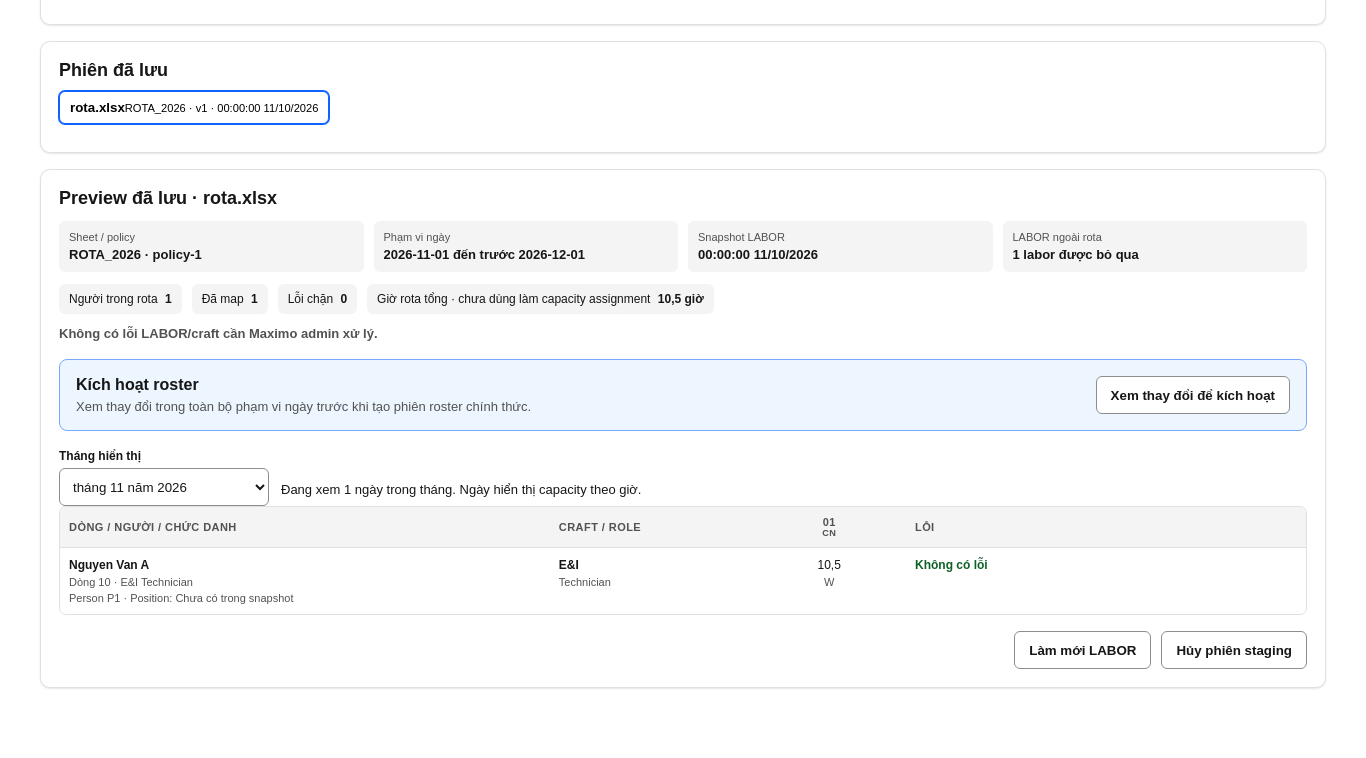
Test: ignores a late refresh result after switching A to B and back to A
(page scrolled)
Click the button "Làm mới LABOR".
click(1083, 650)  # box [1014,631,1152,669]
(page scrolled)
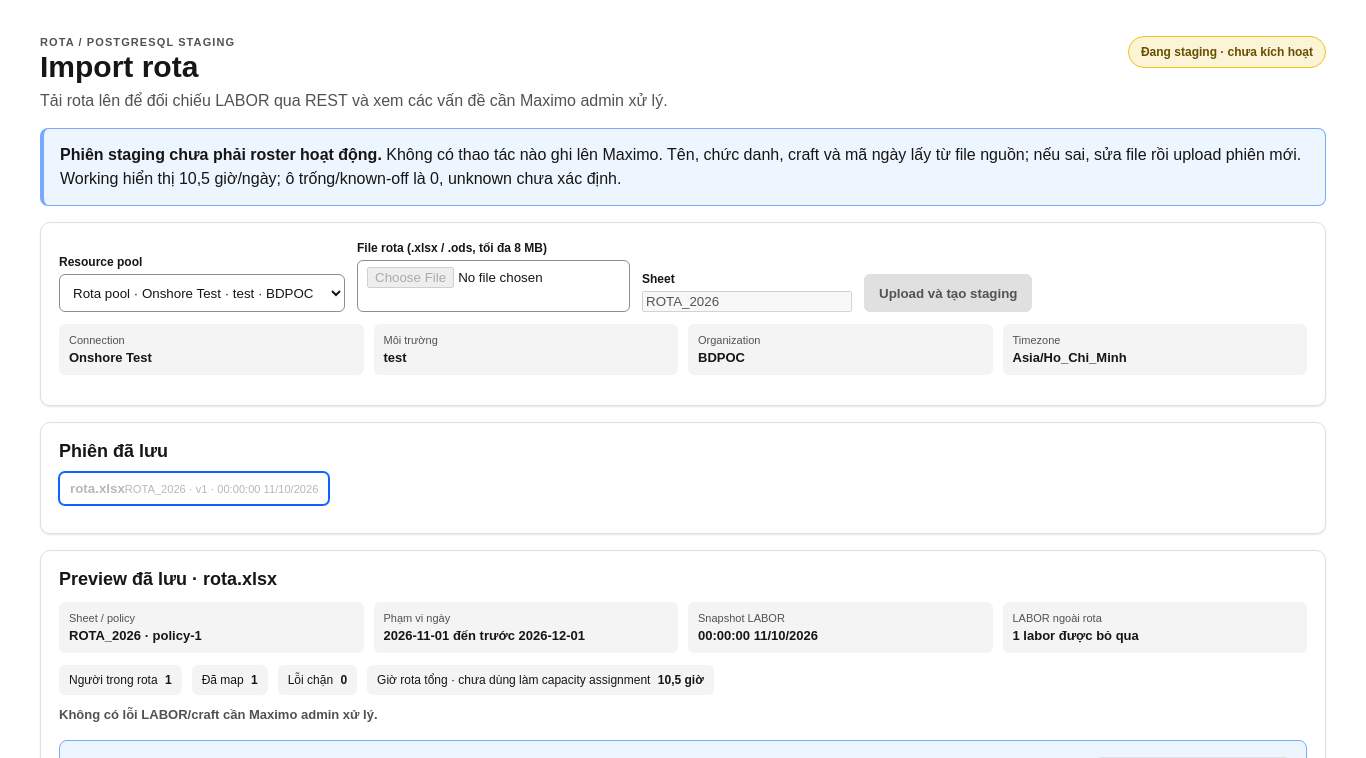
Select "Other pool · Onshore Test · test · BDPOC" in the dropdown labelled "Resource pool" at (202, 293), box [59,274,345,312]
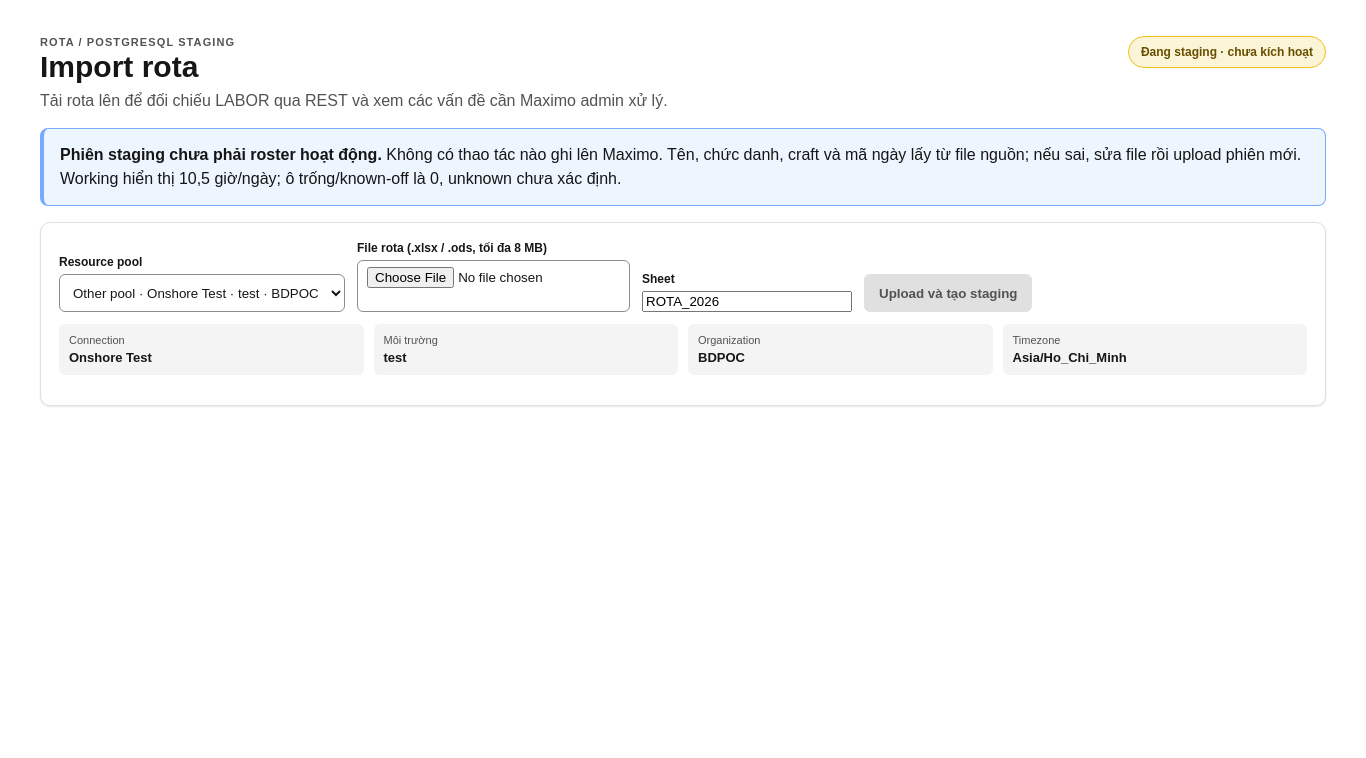
Select "Rota pool · Onshore Test · test · BDPOC" in the dropdown labelled "Resource pool" at (202, 293), box [59,274,345,312]
(page scrolled)
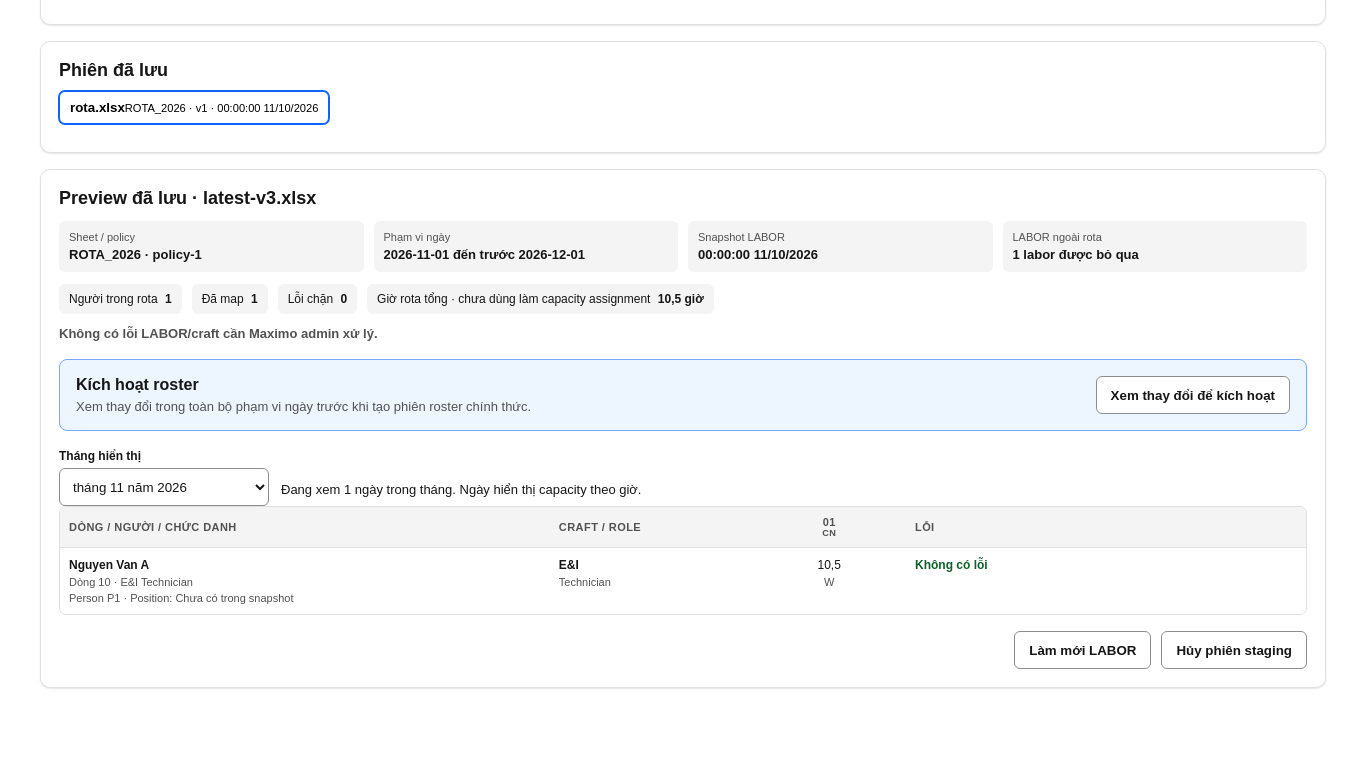
Check: the heading "Preview đã lưu · latest-v3.xlsx" is shown, box [59,188,316,208]
Click the button "Làm mới LABOR".
click(1083, 650)  # box [1014,631,1152,669]
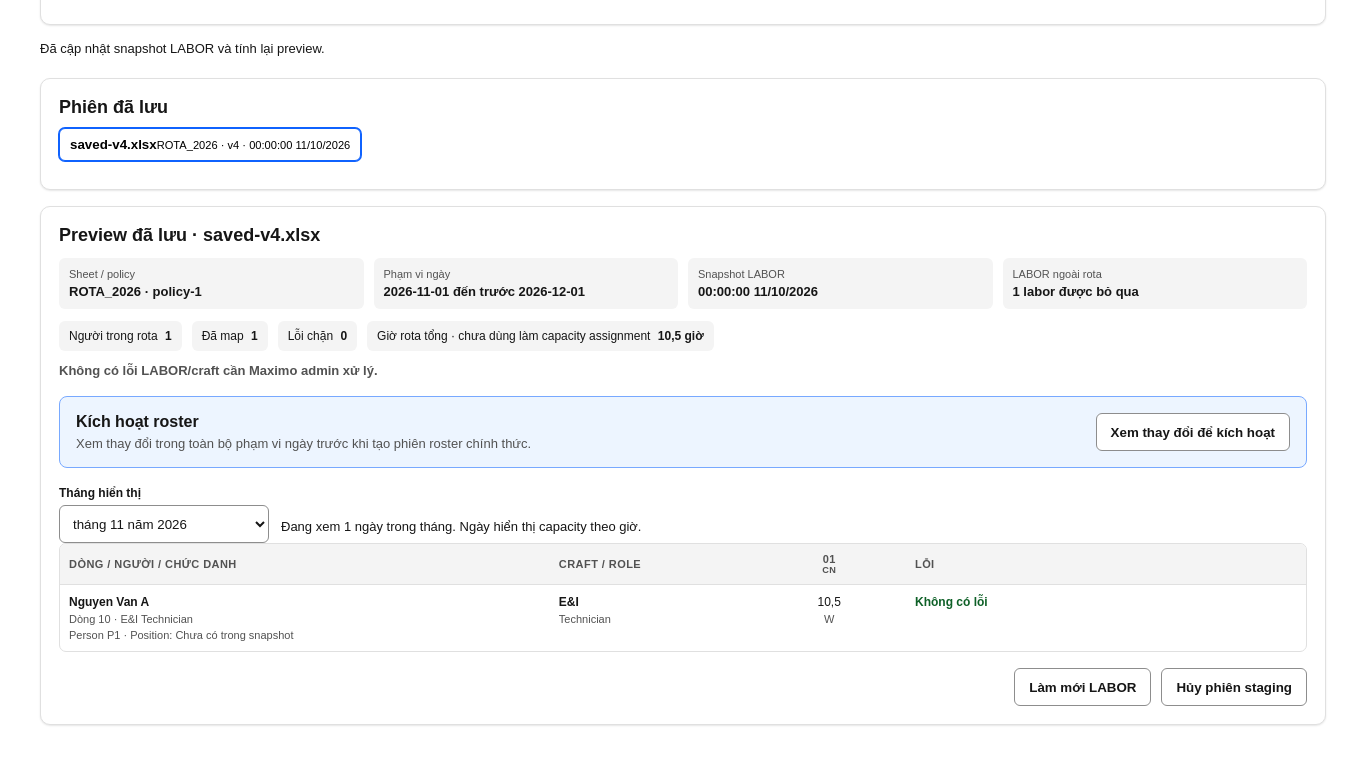
Check: the heading "Preview đã lưu · saved-v4.xlsx" is shown, box [59,225,320,245]
